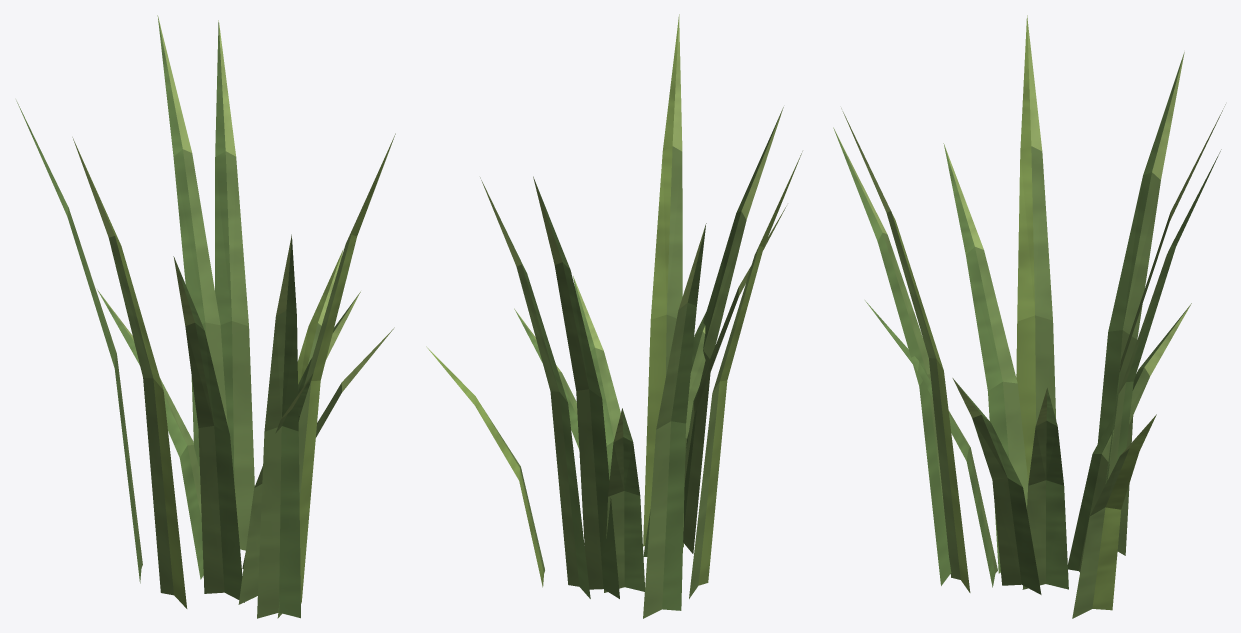
Rendered from grass_clump_tall_02.fbx.
The picture shows the model from 3 angles, left to right: view 1: azimuth 30°, elevation 25°; view 2: azimuth 150°, elevation 25°; view 3: azimuth 270°, elevation 25°; orthographic projection. The views are drawn at different scales.
Visible parts, largest first — view 1: grass_clump_tall_02; view 2: grass_clump_tall_02; view 3: grass_clump_tall_02.
Boxes of the visible parts, x1,y1,x2,y2 form: grass_clump_tall_02: (16,15,395,618); grass_clump_tall_02: (426,14,802,618); grass_clump_tall_02: (833,15,1225,618).
Bounding box in the file's own units: 71.64 × 104 × 74.
Materials: 1 (1 with a texture image).
